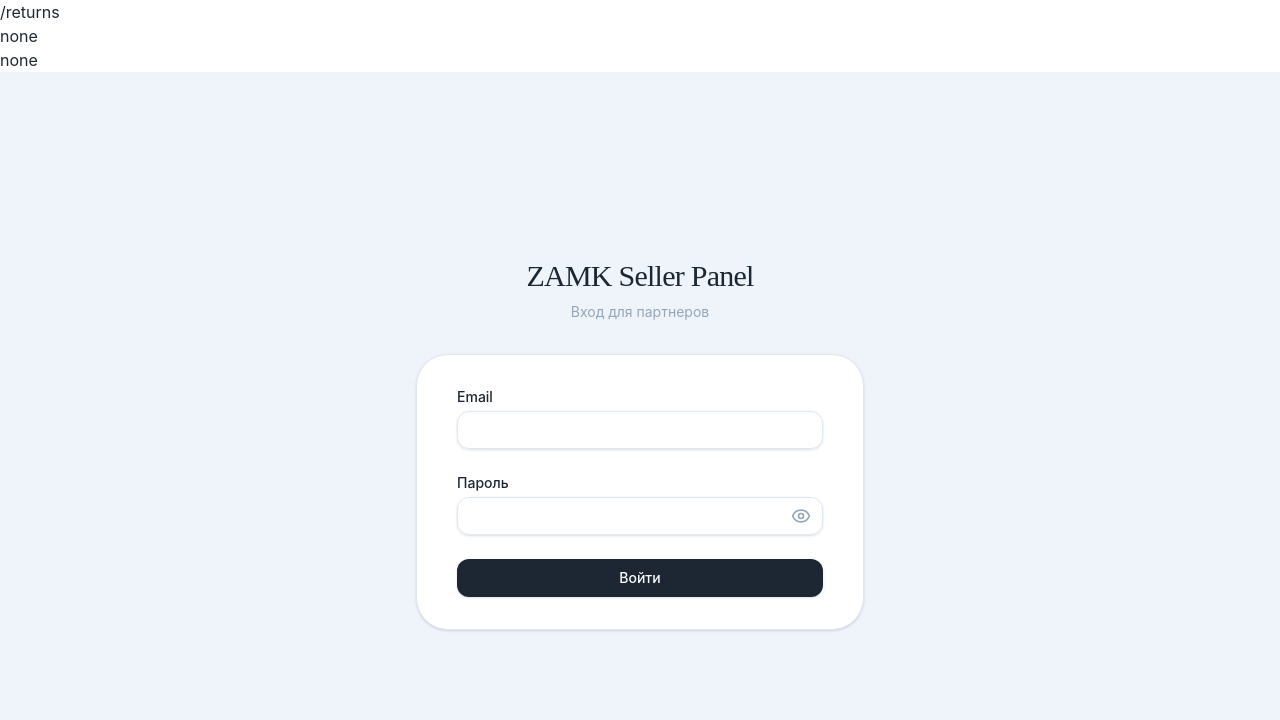
Test: Seller URL-Preserving Auth Gate & Deep-Link Invariants › URL-Preserving Auth Gate Integration Flows › unauthenticated /returns: URL remains in address bar, auth gate shown, login renders list in place
The width and height of the screenshot is (1280, 720).
Expected: the text with test id "current-pathname" reads "/returns", x1=0 y1=2 x2=60 y2=22
Expected: the text "Protected Returns List" is not shown
Type "seller@zamk.local" into the field labelled "Email".
click(640, 430); type("seller@zamk.local")  # box x1=457 y1=411 x2=823 y2=449
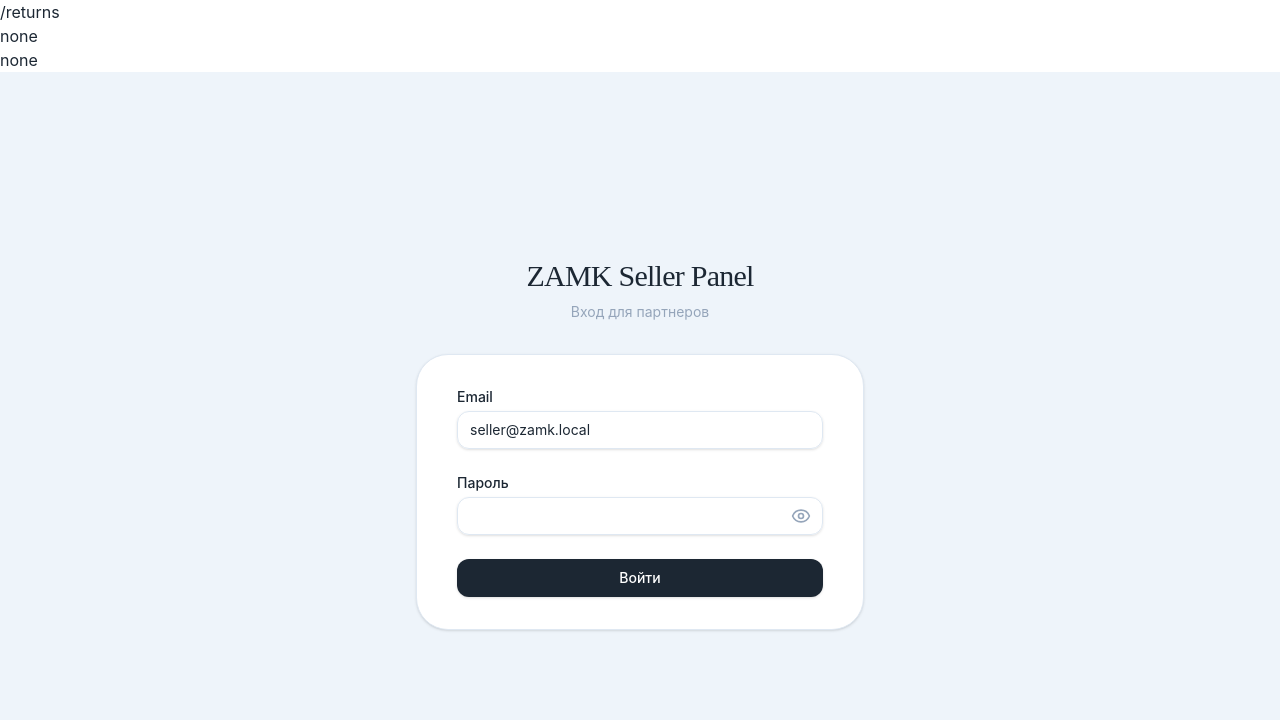
Type "password123" into the password field labelled "Пароль".
click(640, 516); type("password123")  # box x1=457 y1=497 x2=823 y2=535
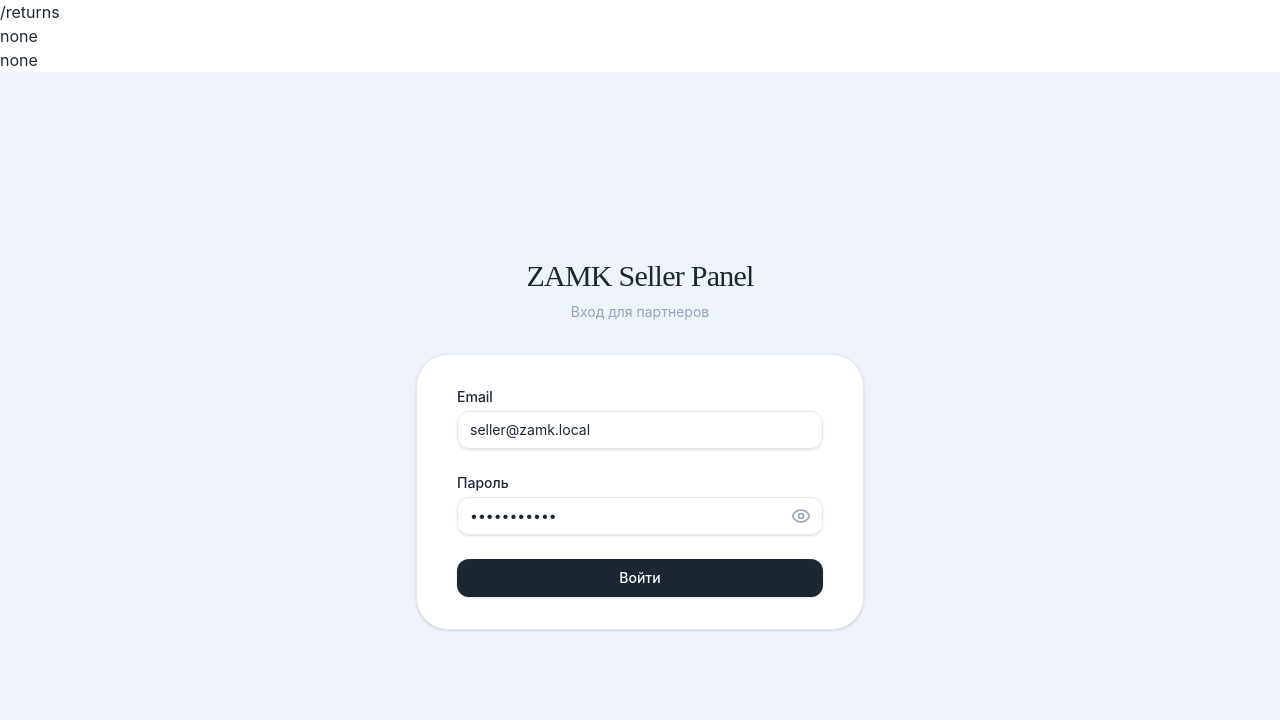
Click the button "Войти".
click(640, 578)  # box x1=457 y1=559 x2=823 y2=597
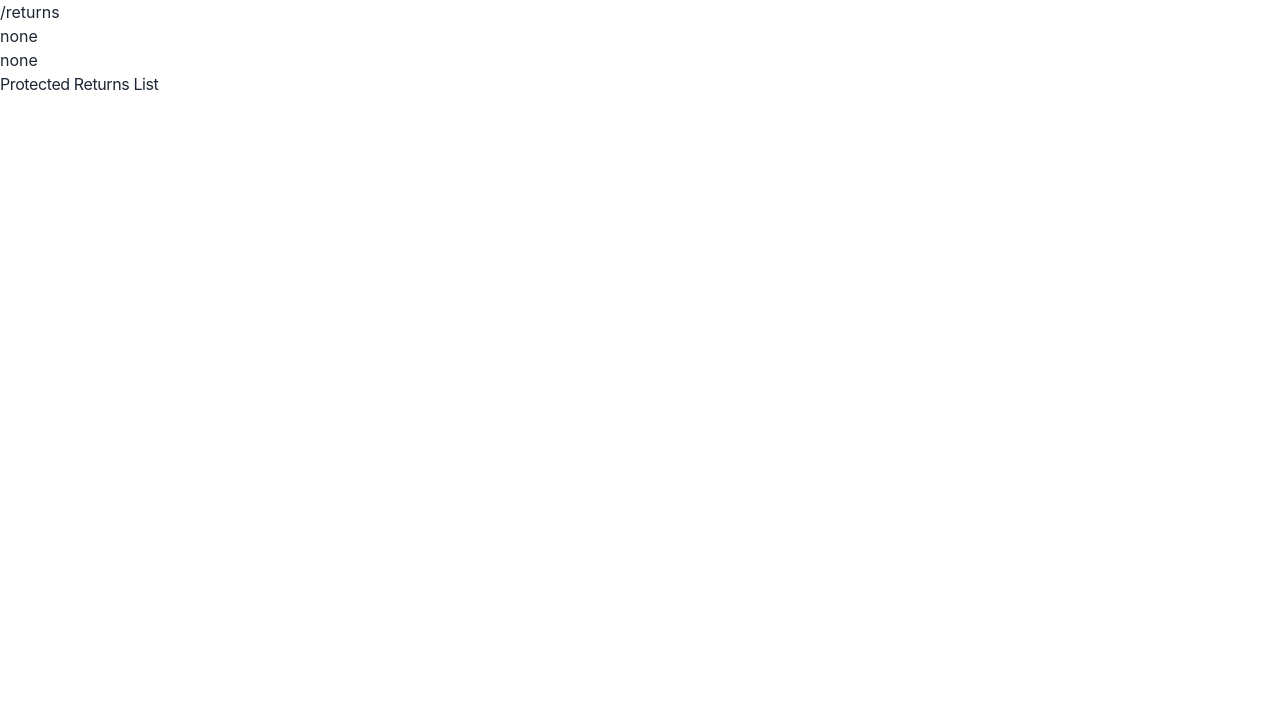
Expected: the text with test id "current-pathname" reads "/returns", x1=0 y1=2 x2=60 y2=22
Expected: the heading "Protected Returns List" is shown, x1=0 y1=74 x2=158 y2=94
